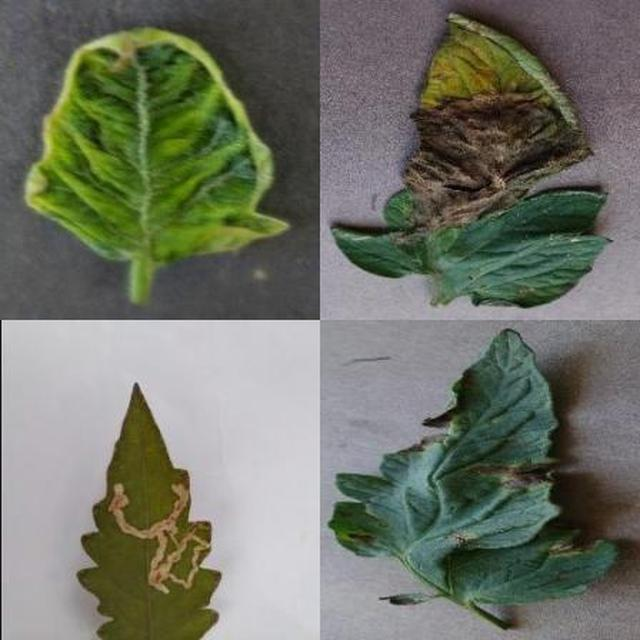Yellow Leaf Curl Virus: (212, 209, 640, 640)
